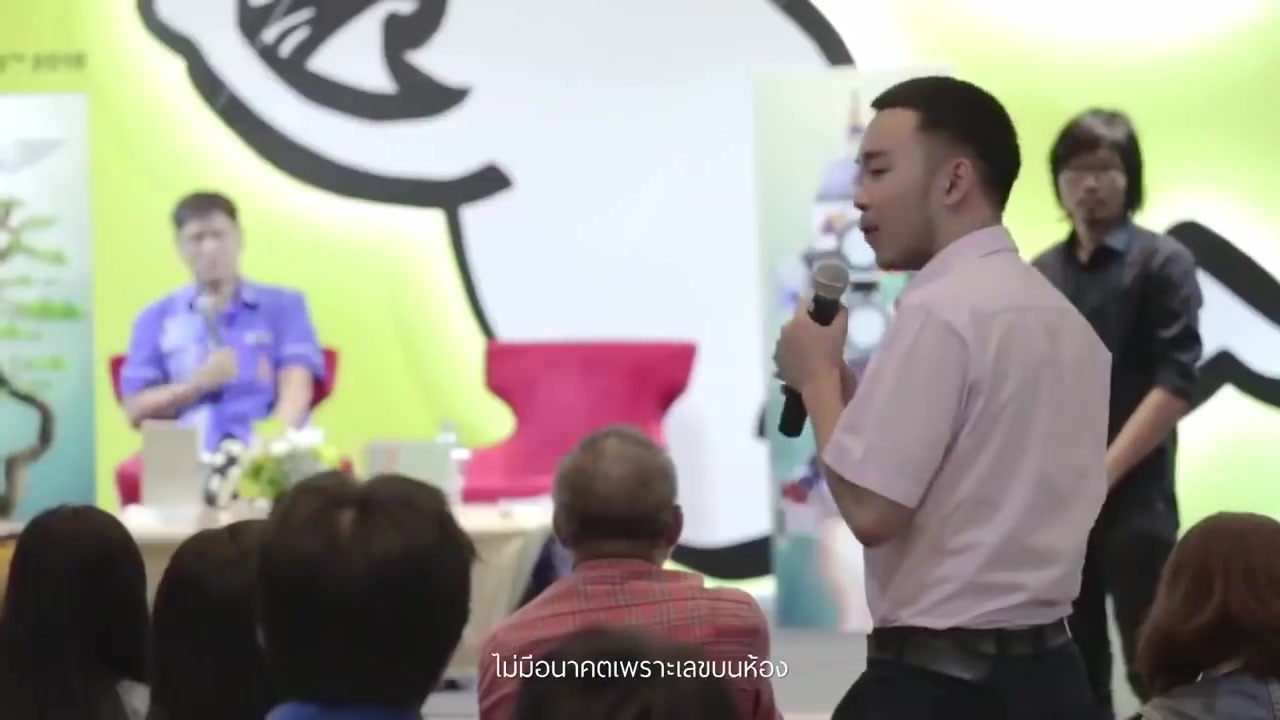text-label: (486, 650, 796, 684)
